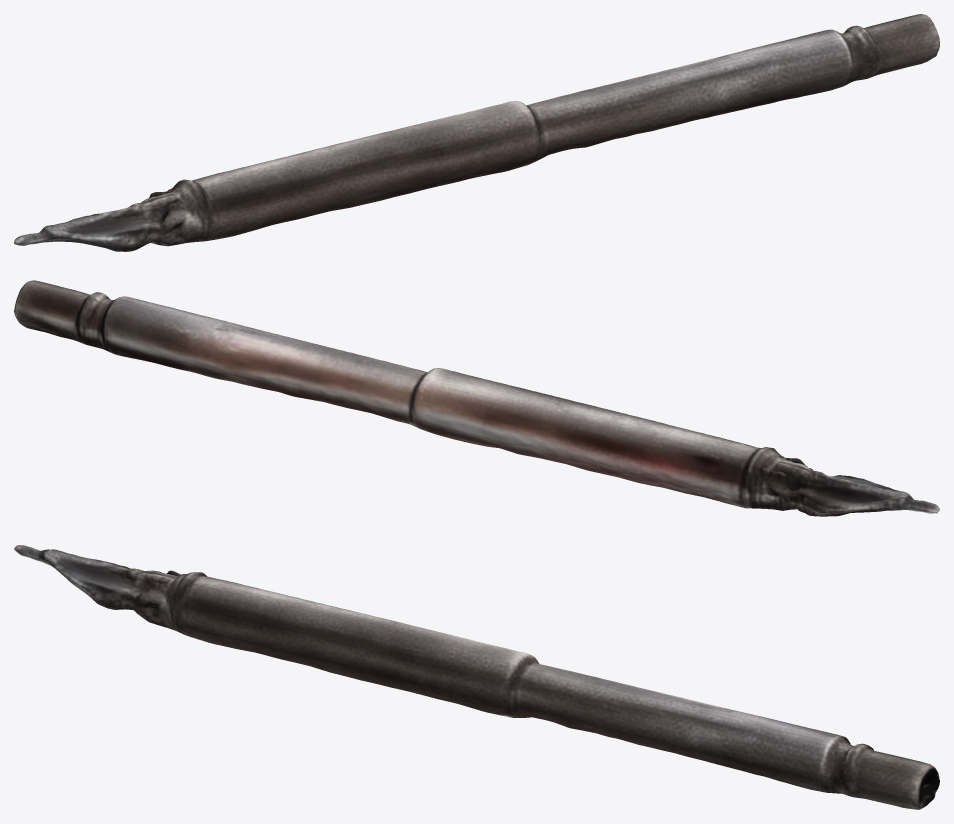
Rendered from pen.glb.
3 views of the same model, one above another, from view 1: azimuth 30°, elevation 25°; view 2: azimuth 150°, elevation 25°; view 3: azimuth 330°, elevation 25° (orthographic).
Visible parts, largest first — view 1: world; view 2: world; view 3: world.
Part boxes in pixels (x1=…): world: x1=14, y1=14, x2=939, y2=251; world: x1=14, y1=280, x2=939, y2=516; world: x1=14, y1=545, x2=939, y2=809.
Bounding box in the file's own units: 1 × 0.0633 × 0.0658.
1 material, 1 textured.
